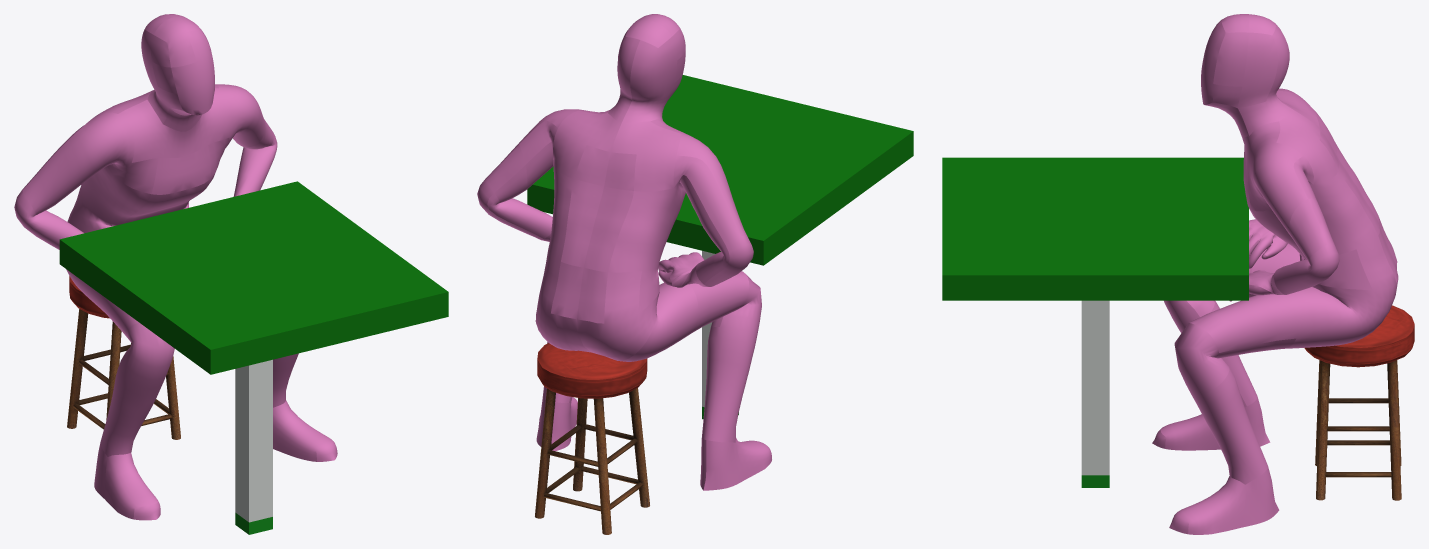
Rendered from customer.dae.
The picture shows the model from 3 angles, left to right: view 1: azimuth 30°, elevation 25°; view 2: azimuth 150°, elevation 25°; view 3: azimuth 270°, elevation 25°; orthographic projection. The views are drawn at different scales.
Parts seen in each view (by area): view 1: Object_2.001, Object_255.001, Cylinder001; view 2: Object_255.001, Object_2.001, Cylinder001; view 3: Object_255.001, Object_2.001, Cylinder001.
Boxes of the visible parts, x1,y1,x2,y2 form: Object_2.001: (59, 181, 448, 534); Object_255.001: (14, 14, 337, 520); Cylinder001: (67, 276, 180, 439); Object_255.001: (477, 14, 771, 490); Object_2.001: (527, 75, 913, 419); Cylinder001: (535, 343, 649, 534); Object_255.001: (1152, 14, 1398, 534); Object_2.001: (942, 157, 1248, 487); Cylinder001: (1304, 305, 1414, 500).
Size of the model in its own units: 0.823 by 1.25 by 1.35.
